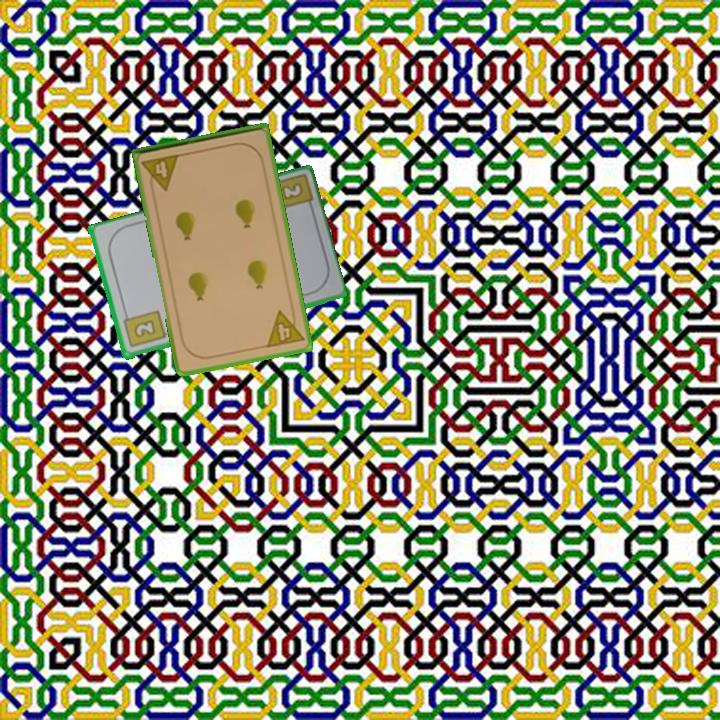2b: (120, 307, 168, 351), (277, 182, 303, 203)
4p: (263, 305, 307, 351), (138, 151, 182, 195)
